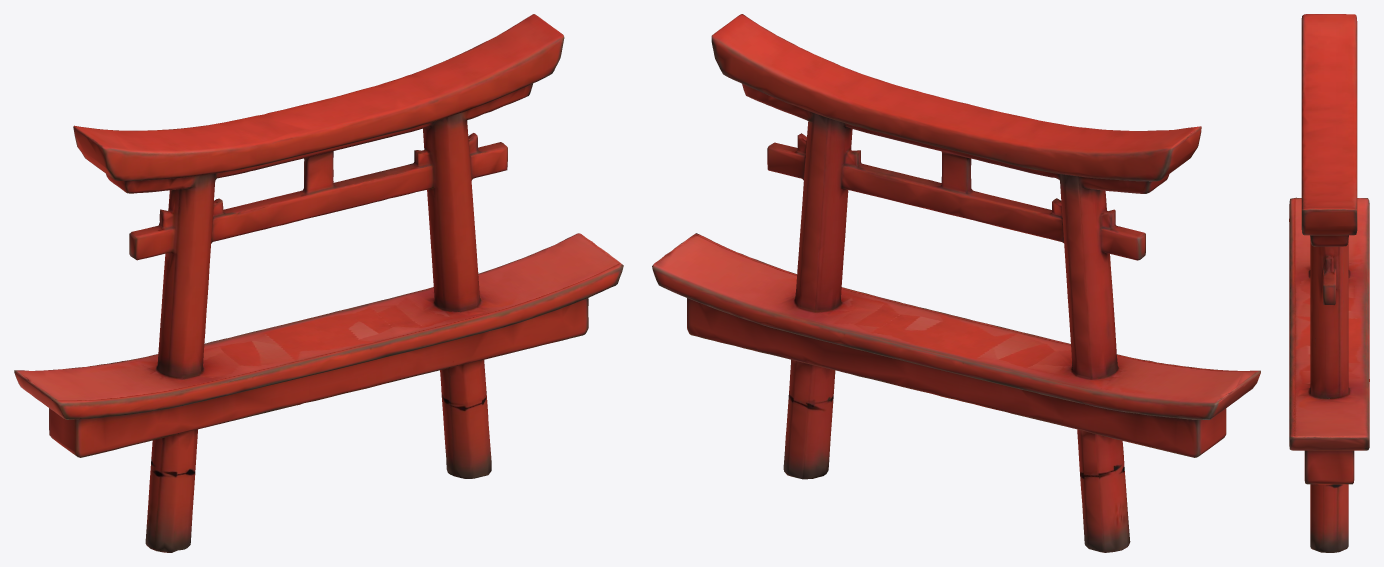
Rendered from torii-gate-optimized.glb.
3 renders of one model, left to right at view 1: azimuth 30°, elevation 25°; view 2: azimuth 150°, elevation 25°; view 3: azimuth 270°, elevation 25°, orthographic. The views are drawn at different scales.
Visible parts, largest first — view 1: Mesh_0.001; view 2: Mesh_0.001; view 3: Mesh_0.001.
Part boxes in pixels (x1,y1,x2,y2): Mesh_0.001: (14,14,623,552); Mesh_0.001: (652,14,1260,552); Mesh_0.001: (1289,14,1369,552).
Size of the model in its own units: 5.56 by 4 by 0.7903.
1 material, 1 textured.
